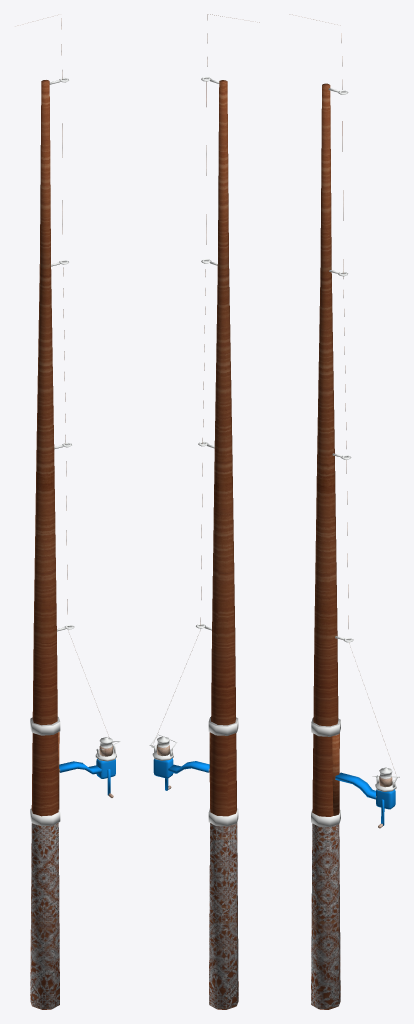
The model's file is fishing_rod-AVIE3HHp.glb.
The picture shows the model from 3 angles, left to right: view 1: azimuth 30°, elevation 25°; view 2: azimuth 150°, elevation 25°; view 3: azimuth 330°, elevation 25°; orthographic projection.
Parts seen in each view (by area): view 1: Cylinder030; view 2: Cylinder030; view 3: Cylinder030.
Part boxes in pixels (box(x1,y1,x2,y2)): Cylinder030: box(17, 14, 120, 1009); Cylinder030: box(149, 14, 259, 1009); Cylinder030: box(289, 14, 399, 1009).
Bounding box in the file's own units: 41.84 × 376 × 10.92.
Materials: 1 (1 with a texture image).
